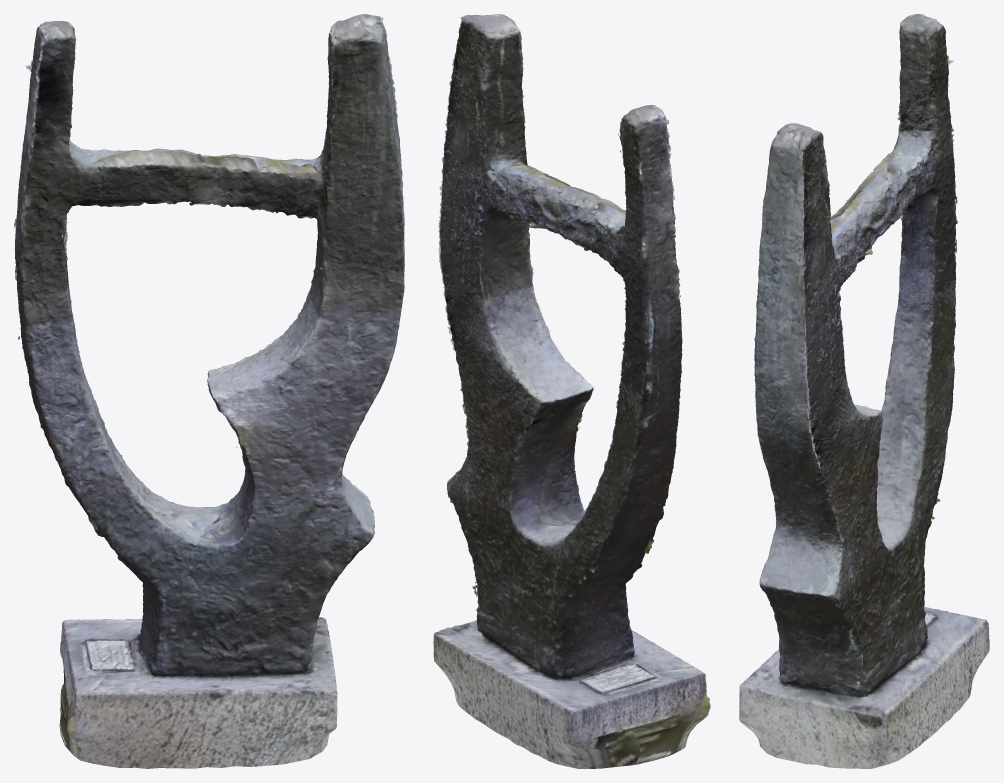
The model's file is preview.glb.
The picture shows the model from 3 angles, left to right: view 1: azimuth 30°, elevation 25°; view 2: azimuth 150°, elevation 25°; view 3: azimuth 270°, elevation 25°; orthographic projection. The views are drawn at different scales.
Parts seen in each view (by area): view 1: Object_2; view 2: Object_2; view 3: Object_2.
Part boxes in pixels (box(x1,y1,x2,y2)): Object_2: box(14, 14, 404, 768); Object_2: box(433, 14, 710, 768); Object_2: box(739, 14, 989, 768).
Bounding box in the file's own units: 0.3359 × 0.7081 × 0.2451.
1 material, 1 textured.
